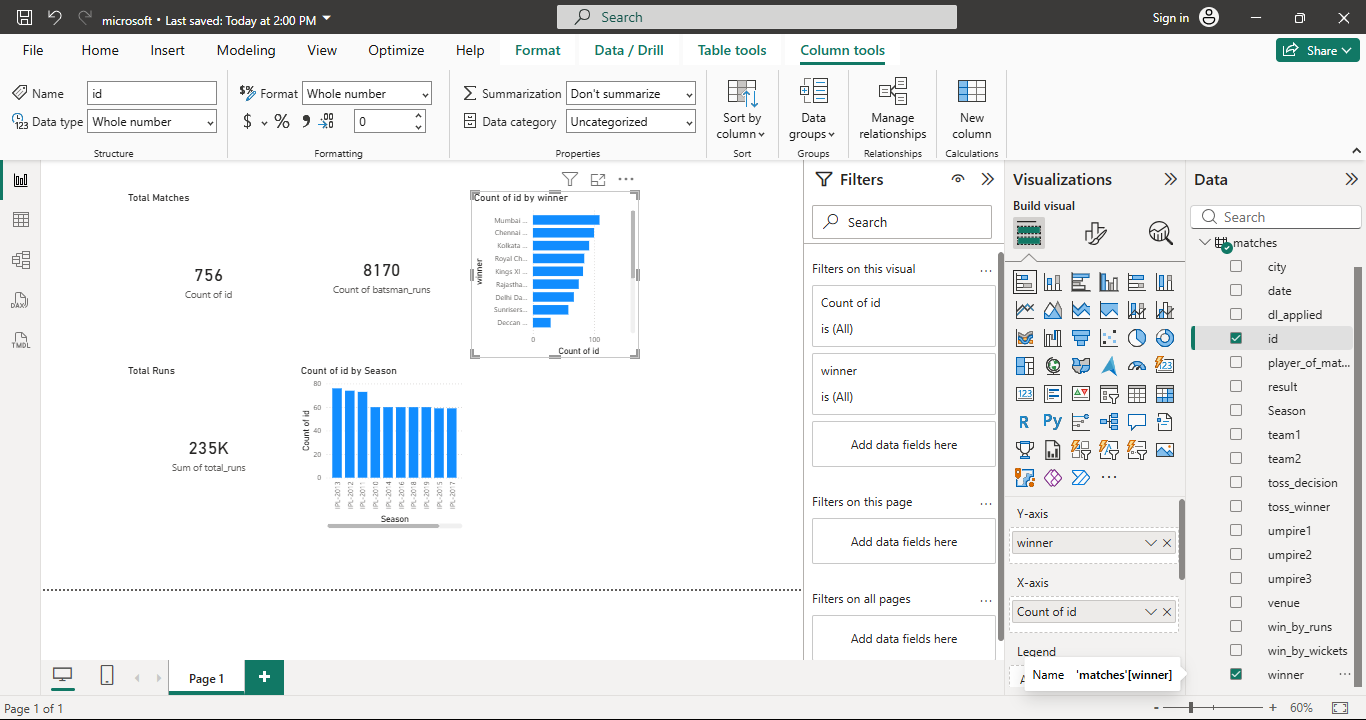

This screenshot's page, from the dashboard's own definition file:
{"tool":"powerbi","page":{"name":"Page 1","canvas":[1280,720],"ordinal":0},"visuals":[{"type":"card","title":"Total Matches","fields":{"Values":["Count(matches.id)"]},"box":[141.1,52.1,280.5,280.5],"z":0},{"type":"card","title":"Total Runs","fields":{"Values":["Sum(deliveries.total_runs)"]},"box":[141,343,281,281],"z":1},{"type":"card","fields":{"Values":["CountNonNull(deliveries.batsman_runs)"]},"box":[432,52,281,281],"z":2},{"type":"clusteredColumnChart","fields":{"Category":["matches.Season"],"Y":["CountNonNull(matches.id)"]},"box":[432,343,281,281],"z":3},{"type":"barChart","fields":{"Y":["CountNonNull(matches.winner)"],"Category":["matches.id"]},"box":[723,52,281,281],"z":4}]}

Visuals, with their boxes on the page's 1280x720 design canvas (x1, y1, x2, y2). These are canvas units, not pixel positions in the 1366x720 screenshot, which may show the page scaled, cropped or inside an application window:
"Total Matches" card: <bbox>141, 52, 422, 333</bbox>
"Total Runs" card: <bbox>141, 343, 422, 624</bbox>
card - CountNonNull(deliveries.batsman_runs): <bbox>432, 52, 713, 333</bbox>
clusteredColumnChart - matches.Season x CountNonNull(matches.id): <bbox>432, 343, 713, 624</bbox>
barChart - CountNonNull(matches.winner) x matches.id: <bbox>723, 52, 1004, 333</bbox>
